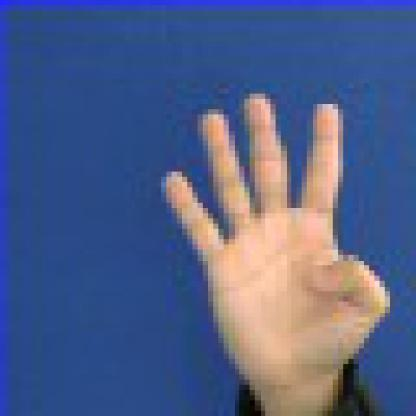four: (148, 85, 400, 387)
